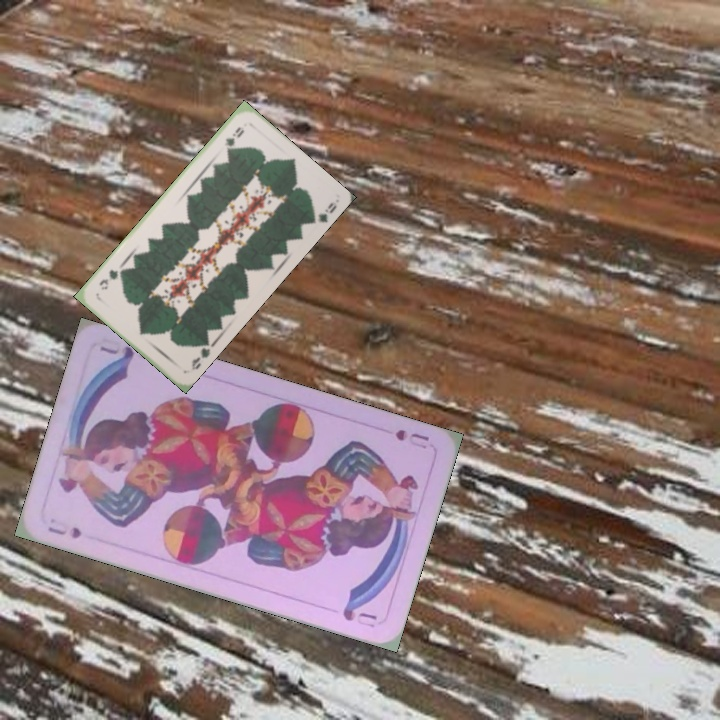G9: (187, 338, 213, 373), (220, 122, 247, 154)
SU: (391, 425, 432, 452), (44, 520, 84, 542)
